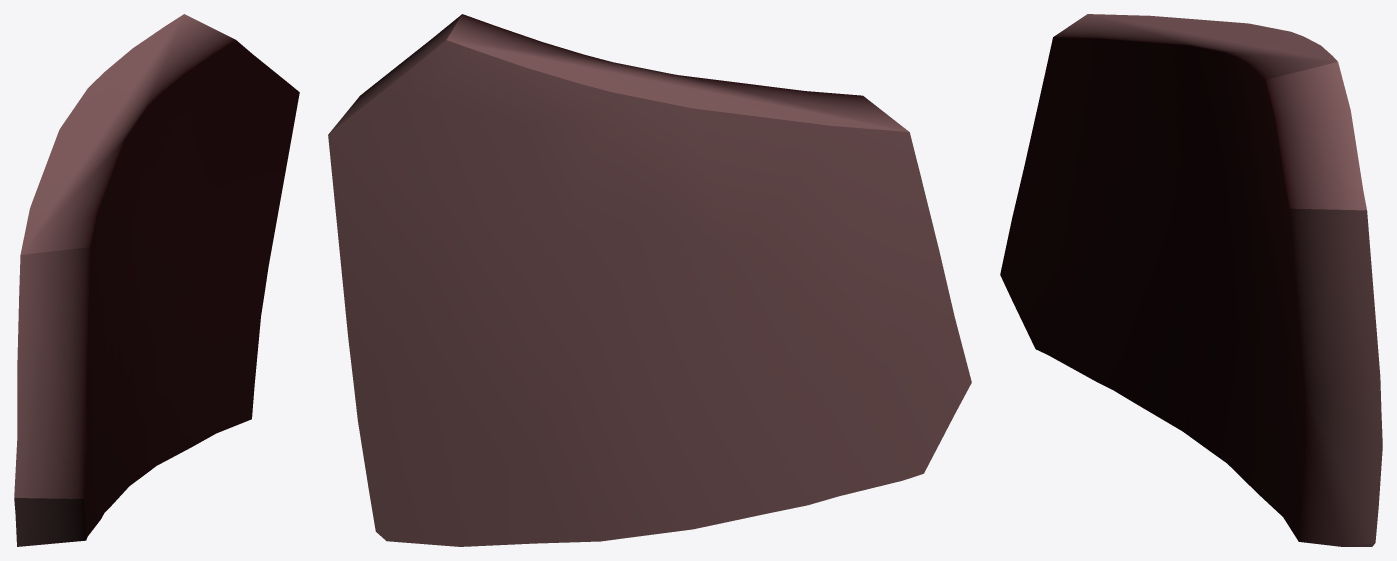
The model's file is pa_FellaPart.fbx.
3 renders of one model, left to right at view 1: azimuth 30°, elevation 25°; view 2: azimuth 150°, elevation 25°; view 3: azimuth 270°, elevation 25°, orthographic. The views are drawn at different scales.
Visible parts, largest first — view 1: FellaPart; view 2: FellaPart; view 3: FellaPart.
Boxes of the visible parts, x1,y1,x2,y2 form: FellaPart: [14, 14, 299, 546]; FellaPart: [328, 14, 971, 546]; FellaPart: [1000, 14, 1382, 546].
Size of the model in its own units: 0.2673 by 0.2669 by 0.1986.
